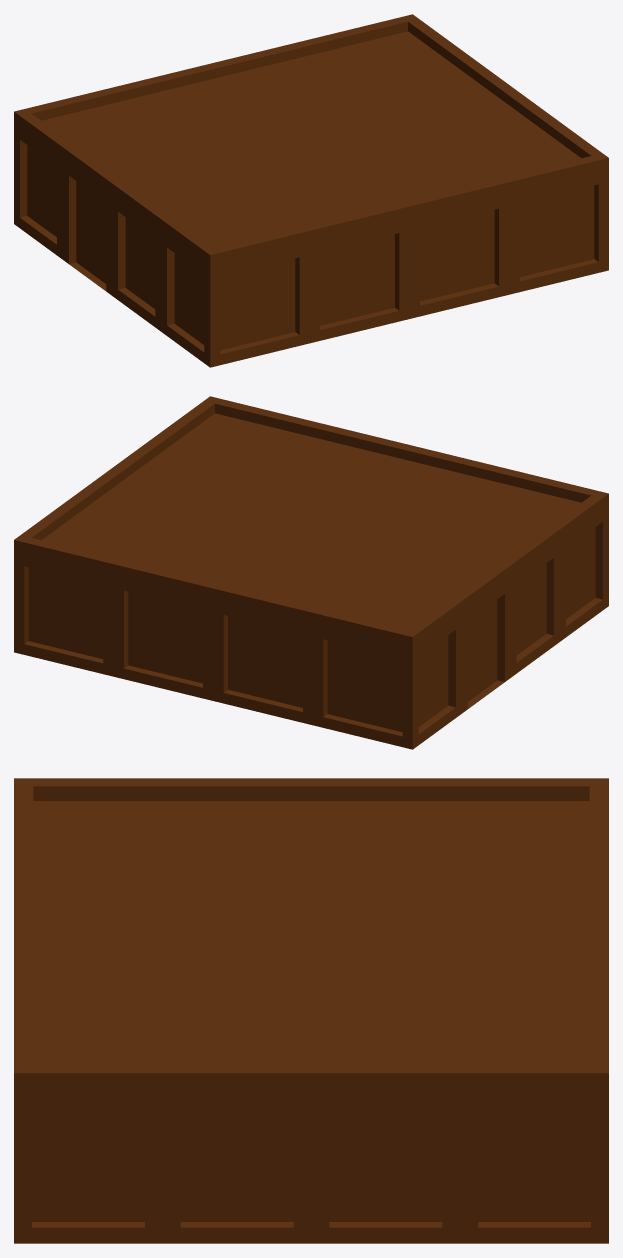
Rendered from upper apartment.fbx.
3 renders of one model, top to bottom at view 1: azimuth 30°, elevation 25°; view 2: azimuth 150°, elevation 25°; view 3: azimuth 270°, elevation 25°, orthographic. The views are drawn at different scales.
Parts seen in each view (by area): view 1: upper floor; view 2: upper floor; view 3: upper floor.
Part boxes in pixels (box(x1,y1,x2,y2)): upper floor: box(14, 14, 608, 367); upper floor: box(14, 396, 608, 749); upper floor: box(14, 778, 608, 1243).
Bounding box in the file's own units: 882 × 238 × 752.
